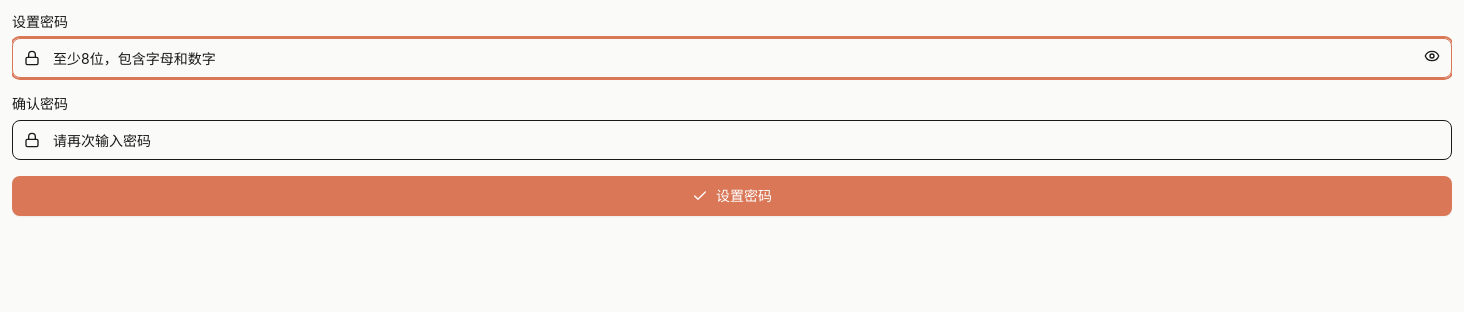
Test: SetPasswordForm 组件 › 密码过短 - 显示错误
Step 1. Type "ab12" into the password field with placeholder "至少8位，包含字母和数字" → (732, 58), box [12,38,1452,78]
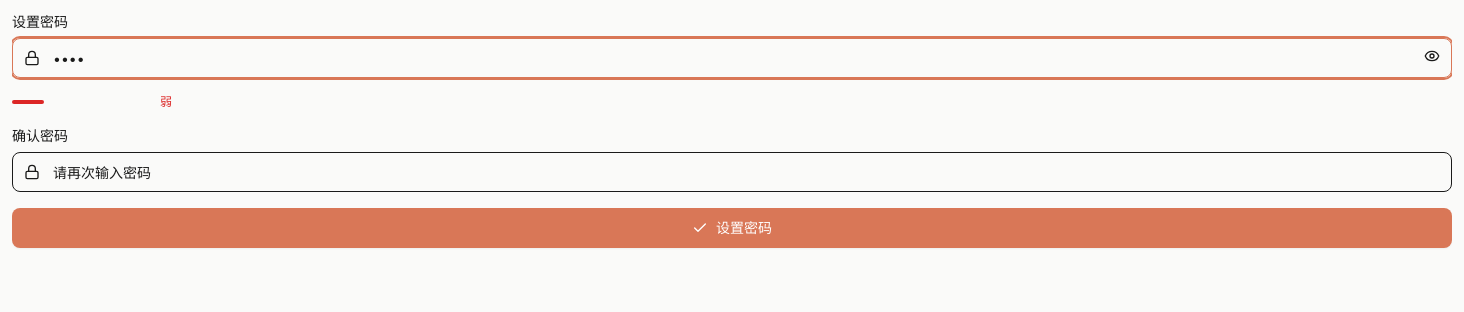
Step 2. Click the button "设置密码" → (732, 228), box [12,208,1452,248]
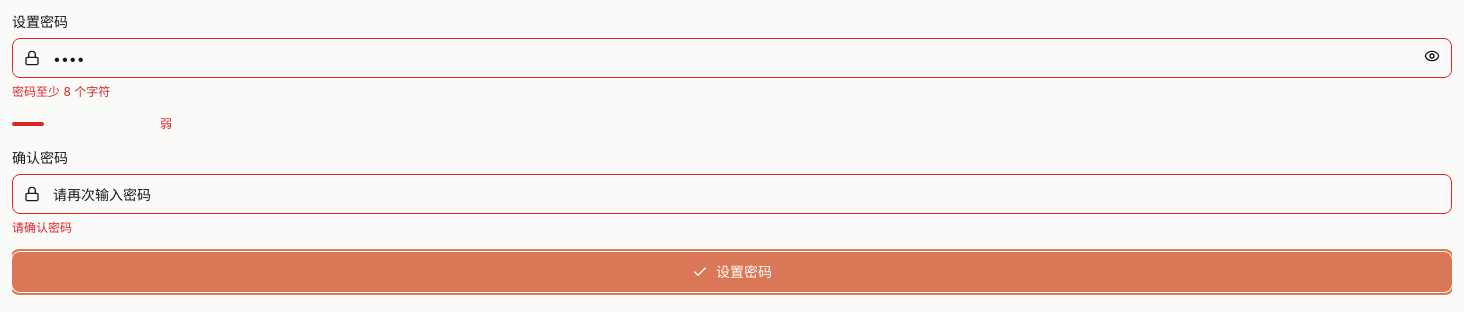
Result: the text "密码至少 8 个字符" is shown at [12,84,110,99]
